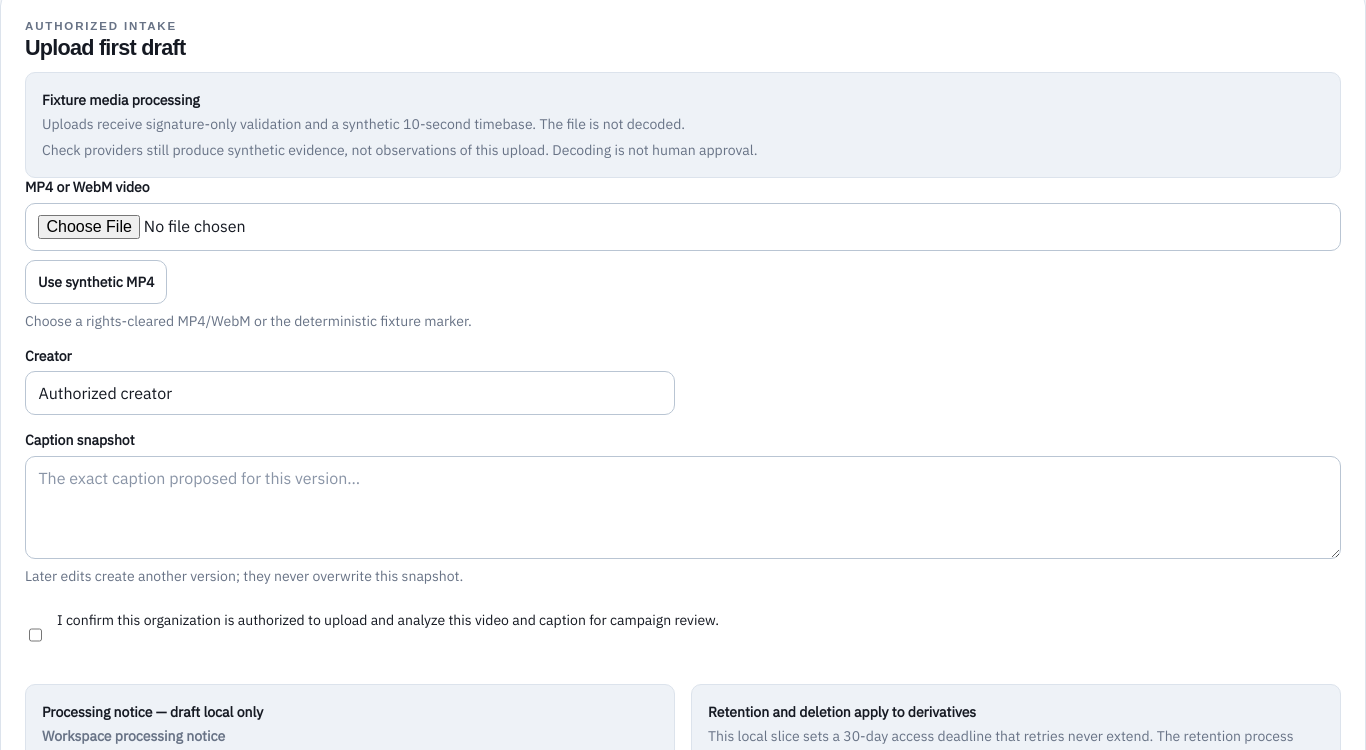
Test: media-aware authorized uploader › requires acknowledgment separately from rights and preserves the draft when a stale notice is refreshed
Step 1. Click the button "Use synthetic MP4" → (96, 282), box [25,260,167,304]
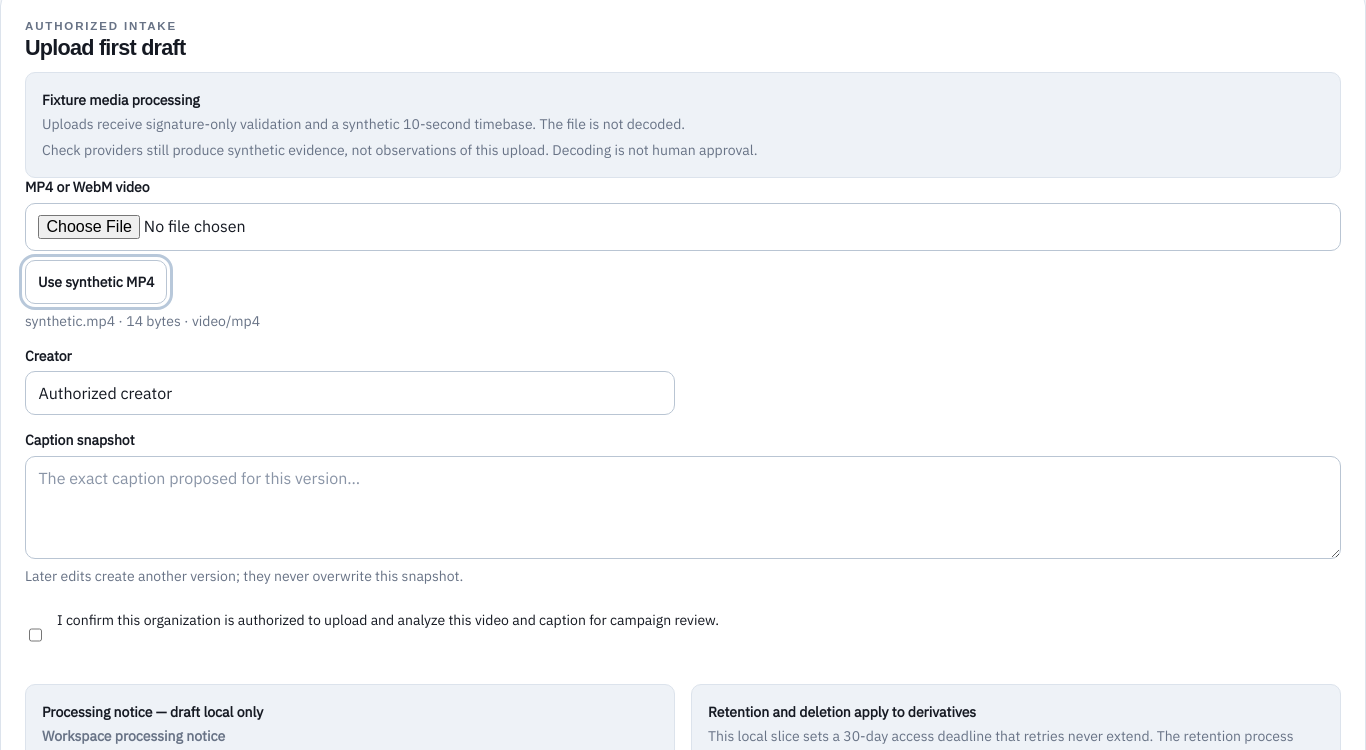
Step 2. Type "Keep this draft." into the text box labelled "Caption snapshot" → (683, 508), box [25,456,1341,560]
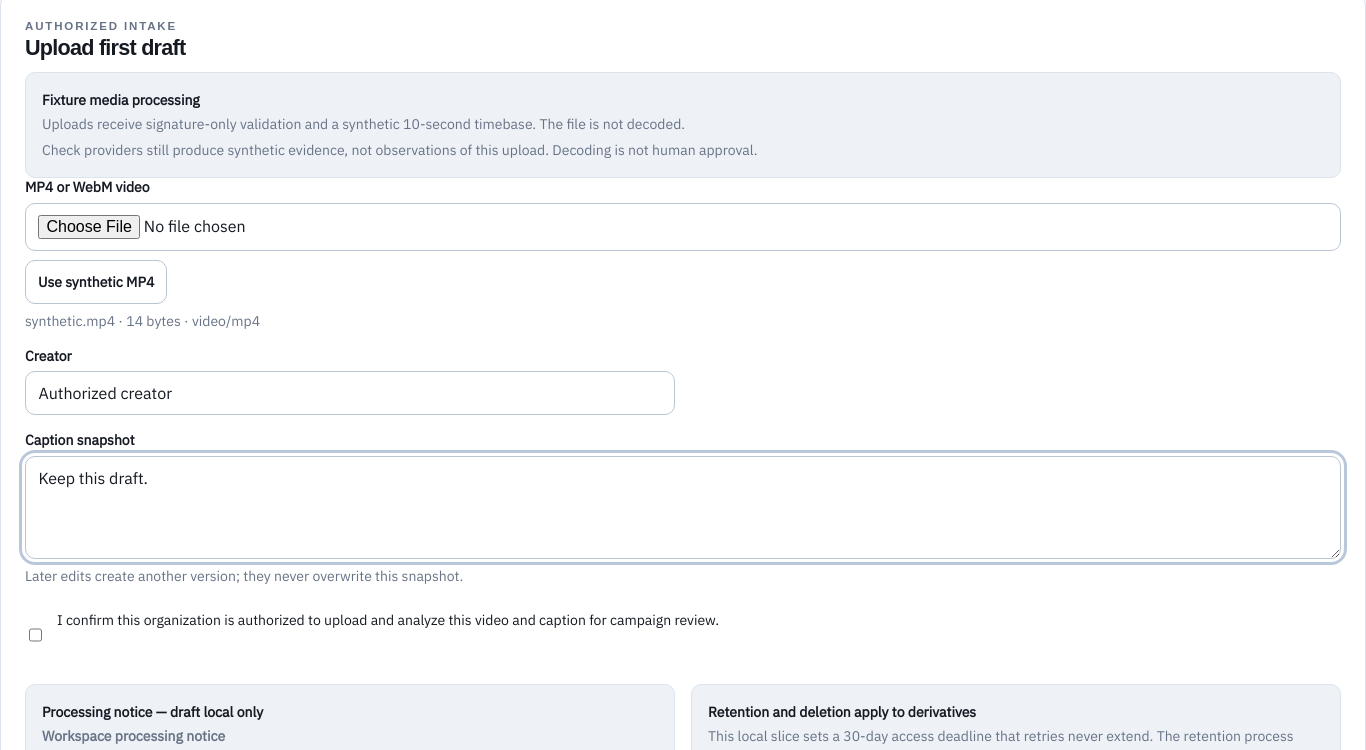
Step 3. Click the checkbox labelled "authorized to upload" → (36, 635), box [29,613,42,657]
(page scrolled)
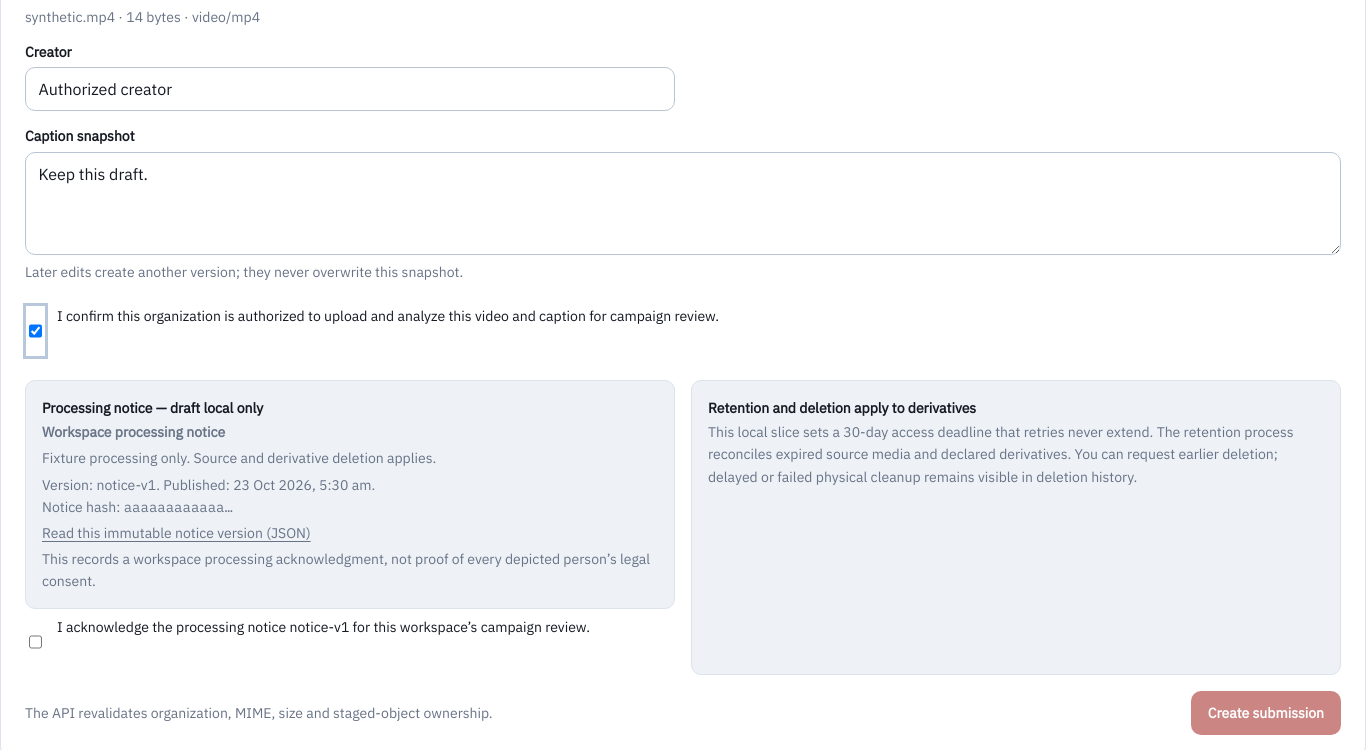
Expected: the button "Create submission" is disabled, [1191,691,1341,735]
Step 4. Click the checkbox labelled "I acknowledge the processing notice notice-v1" → (36, 642), box [29,620,42,664]
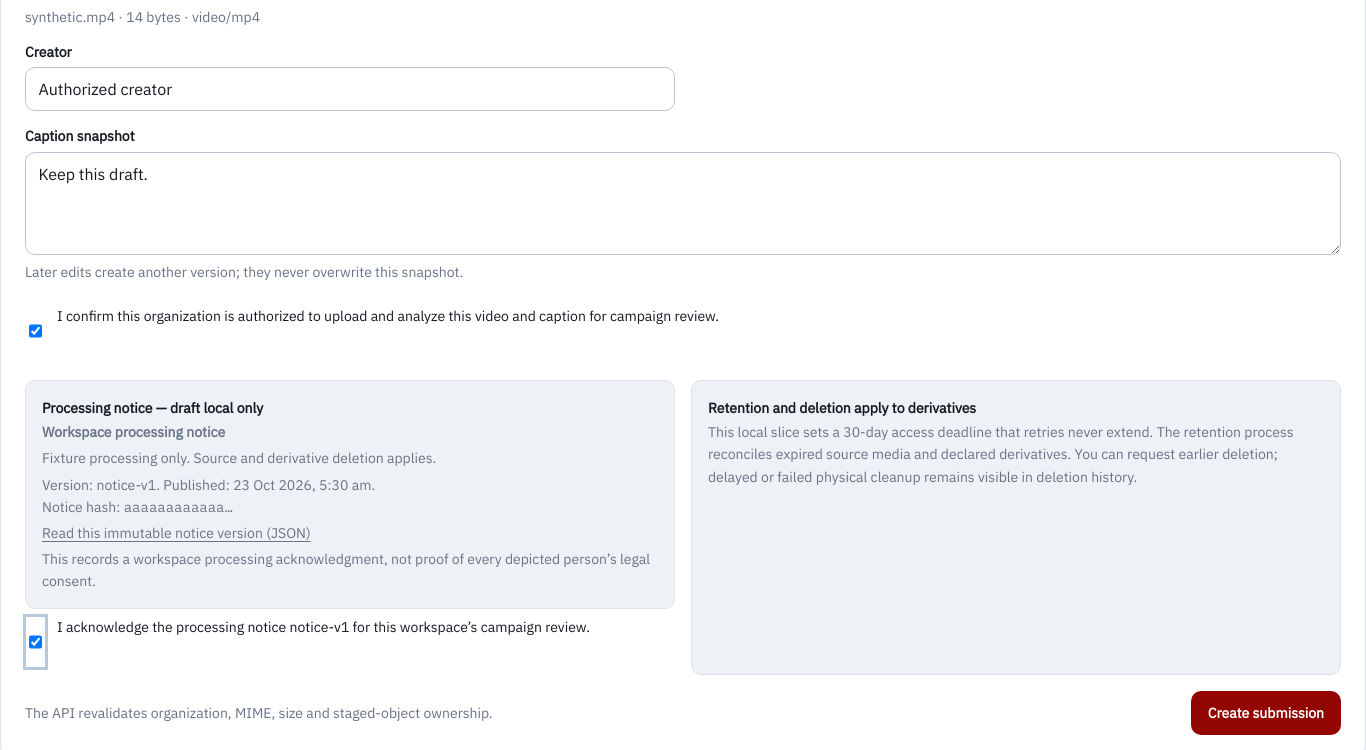
Step 5. Click the button "Create submission" → (1266, 713), box [1191,691,1341,735]
(page scrolled)
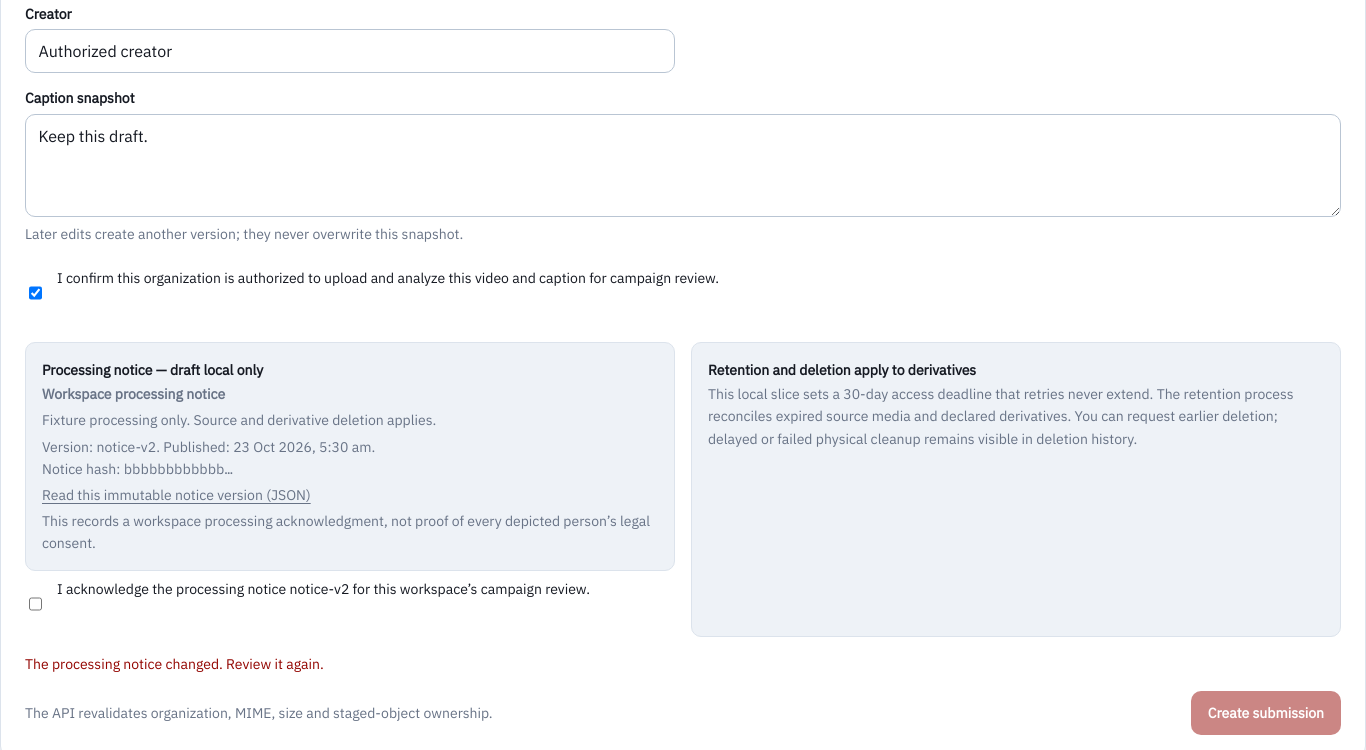
Expected: the checkbox labelled "I acknowledge the processing notice notice-v2" is not checked, [29,582,42,626]
Expected: the checkbox labelled "authorized to upload" is checked, [29,271,42,315]
Expected: the button "Create submission" is disabled, [1191,691,1341,735]
